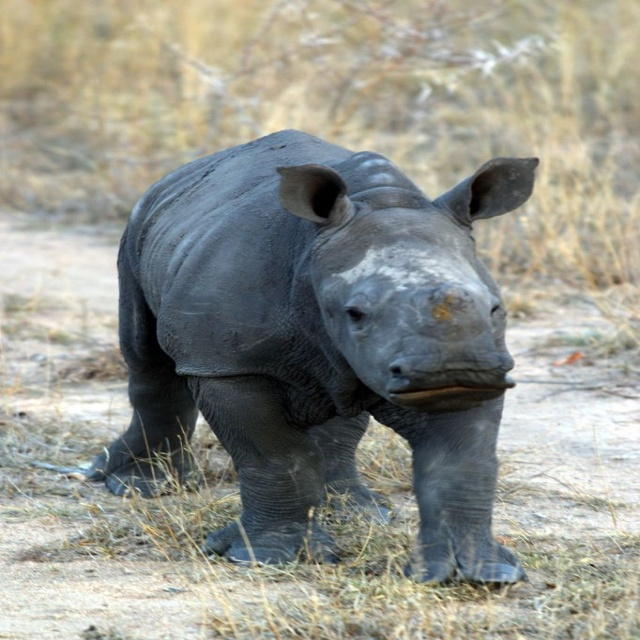Rhinoceros: (81, 127, 542, 587)
